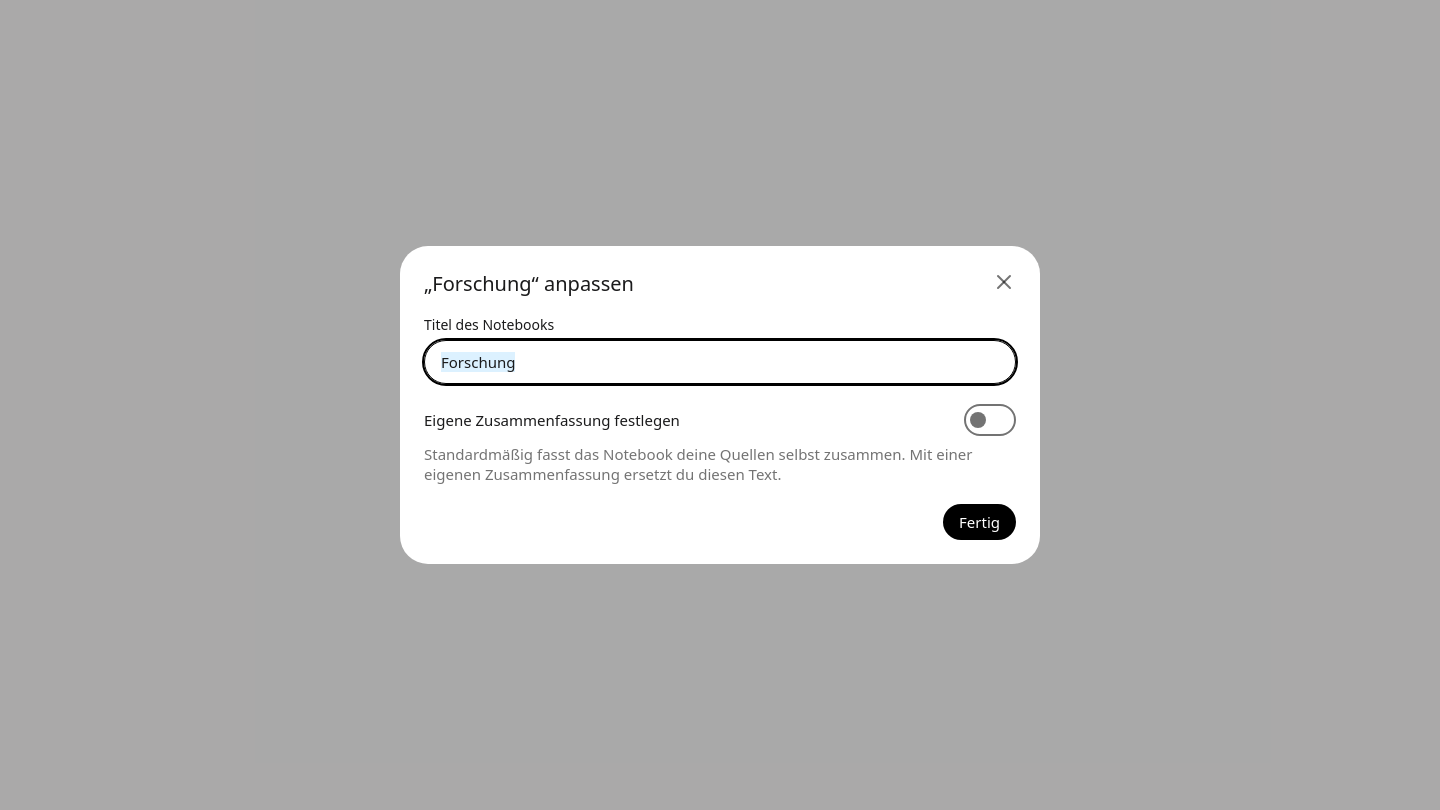
CustomizeNotebookDialog › cannot save an empty title
Clear the field labelled "Titel des Notebooks" at {"x": 720, "y": 362}, box [424, 340, 1016, 384]
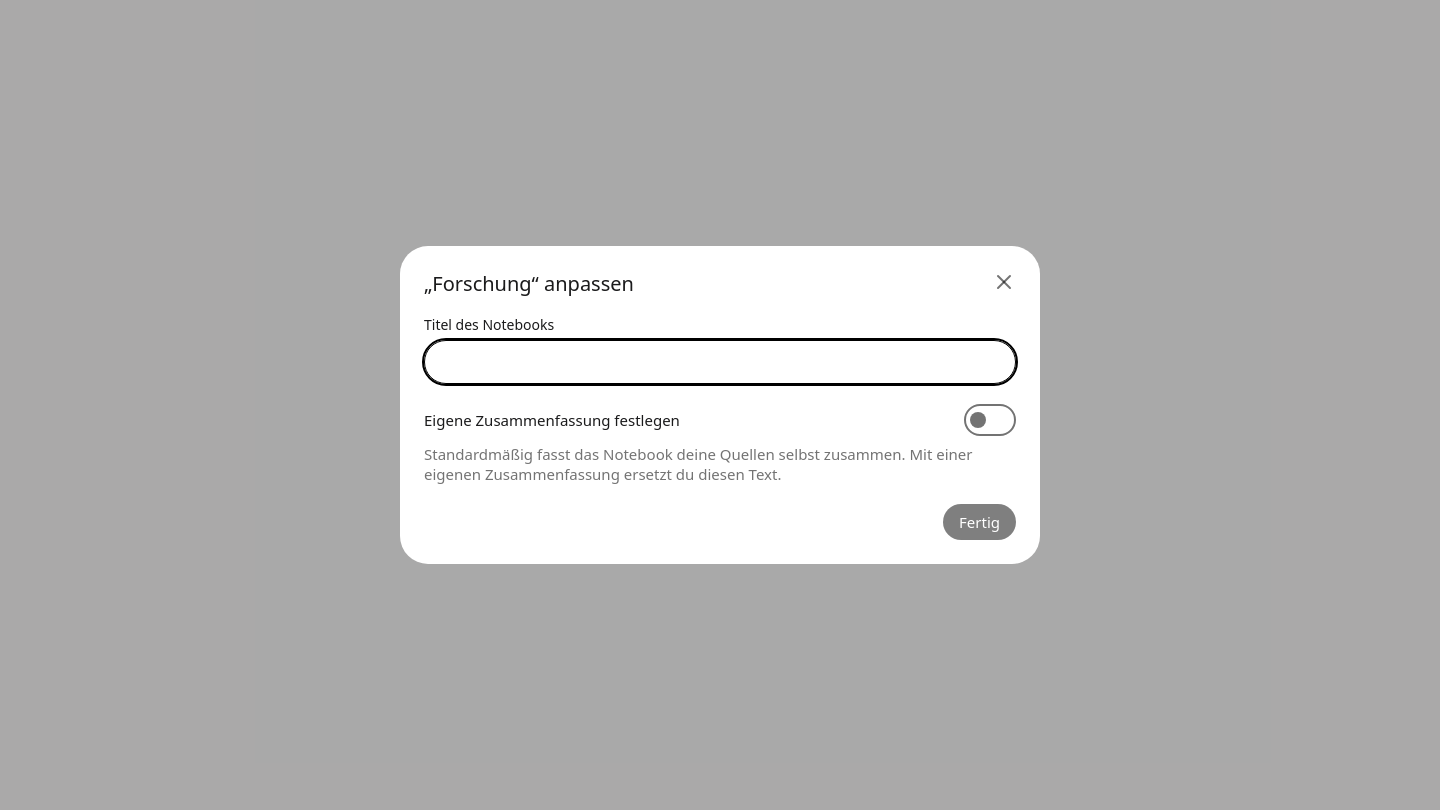
Expected: the button "Fertig" is disabled, [943, 504, 1016, 540]
